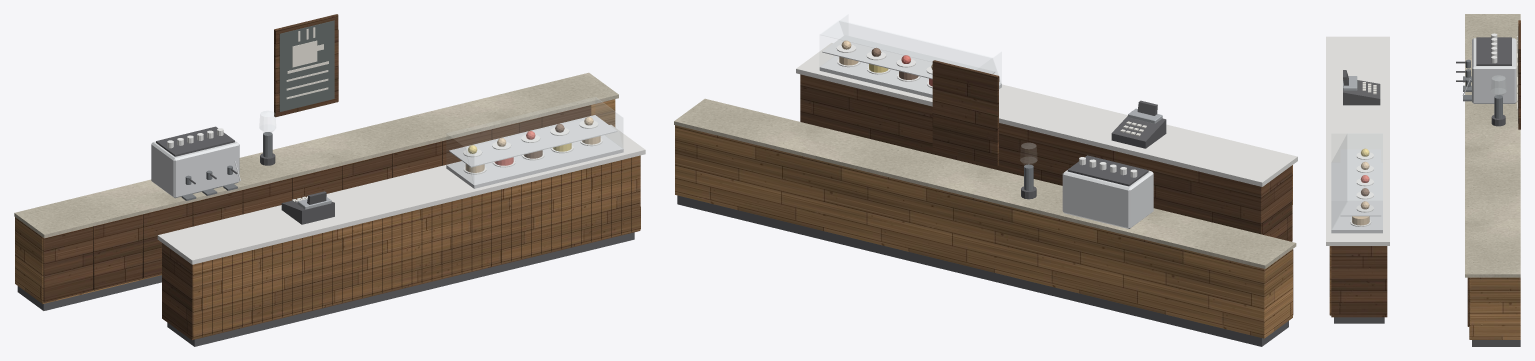
The model's file is cafe_counter.glb.
The picture shows the model from 3 angles, left to right: view 1: azimuth 30°, elevation 25°; view 2: azimuth 150°, elevation 25°; view 3: azimuth 270°, elevation 25°; orthographic projection. The views are drawn at different scales.
Visible parts, largest first — view 1: cafe_counter_timber, cafe_counter_dkwood, cafe_counter_stone, cafe_counter_marble, cafe_counter_glass, cafe_counter_chrome, cafe_counter_dark, cafe_counter_chalk, cafe_counter_cab, cafe_counter_porcelain, cafe_counter_cream, cafe_counter_steel_d; view 2: cafe_counter_cab, cafe_counter_dkwood, cafe_counter_stone, cafe_counter_marble, cafe_counter_dark, cafe_counter_chrome, cafe_counter_glass, cafe_counter_porcelain; view 3: cafe_counter_stone, cafe_counter_marble, cafe_counter_chrome, cafe_counter_glass, cafe_counter_dkwood, cafe_counter_cab, cafe_counter_dark, cafe_counter_porcelain, cafe_counter_steel_d, cafe_counter_cake, cafe_counter_timber, cafe_counter_steel.
Part boxes in pixels (x1,y1,x2,y2): cafe_counter_timber: [192, 155, 640, 338]; cafe_counter_dkwood: [43, 14, 640, 340]; cafe_counter_stone: [14, 72, 618, 238]; cafe_counter_marble: [157, 124, 645, 264]; cafe_counter_glass: [259, 97, 623, 184]; cafe_counter_chrome: [151, 115, 623, 198]; cafe_counter_dark: [17, 126, 634, 346]; cafe_counter_chalk: [279, 20, 334, 111]; cafe_counter_cab: [15, 99, 615, 303]; cafe_counter_porcelain: [167, 120, 602, 174]; cafe_counter_cream: [286, 27, 328, 99]; cafe_counter_steel_d: [181, 132, 272, 200]; cafe_counter_cab: [675, 125, 1292, 338]; cafe_counter_dkwood: [800, 60, 1293, 314]; cafe_counter_stone: [674, 98, 1296, 268]; cafe_counter_marble: [796, 43, 1297, 186]; cafe_counter_dark: [677, 100, 1288, 346]; cafe_counter_chrome: [819, 35, 1153, 228]; cafe_counter_glass: [820, 15, 1037, 166]; cafe_counter_porcelain: [836, 44, 1137, 177]; cafe_counter_stone: [1465, 14, 1520, 277]; cafe_counter_marble: [1326, 36, 1389, 245]; cafe_counter_chrome: [1331, 38, 1516, 233]; cafe_counter_glass: [1331, 75, 1506, 229]; cafe_counter_dkwood: [1331, 20, 1520, 326]; cafe_counter_cab: [1469, 277, 1520, 339]; cafe_counter_dark: [1334, 37, 1520, 346]; cafe_counter_porcelain: [1350, 33, 1497, 226]; cafe_counter_steel_d: [1463, 59, 1502, 118]; cafe_counter_cake: [1352, 161, 1369, 225]; cafe_counter_timber: [1329, 246, 1331, 315]; cafe_counter_steel: [1343, 76, 1357, 90].
Size of the model in its own units: 6.92 by 2.3 by 2.19.
Materials: 19 (4 with a texture image).
